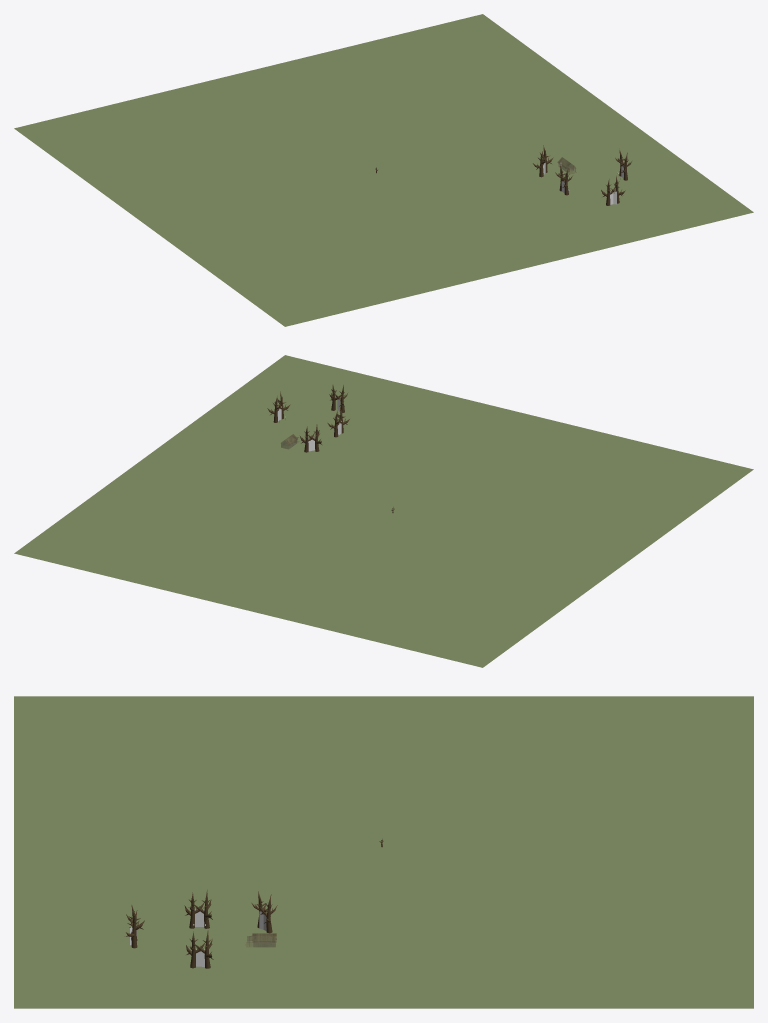
File: 18728_autosave.gltf
The picture shows the model from 3 angles, top to bottom: view 1: azimuth 30°, elevation 25°; view 2: azimuth 150°, elevation 25°; view 3: azimuth 270°, elevation 25°; orthographic projection. The views are drawn at different scales.
Parts seen in each view (by area): view 1: Ground; view 2: Ground; view 3: Ground.
Part boxes in pixels (<box>): Ground: <box>14,14,753,326</box>; Ground: <box>14,355,753,667</box>; Ground: <box>14,696,753,1008</box>.
Bounding box in the file's own units: 1000 × 58.02 × 1002.
